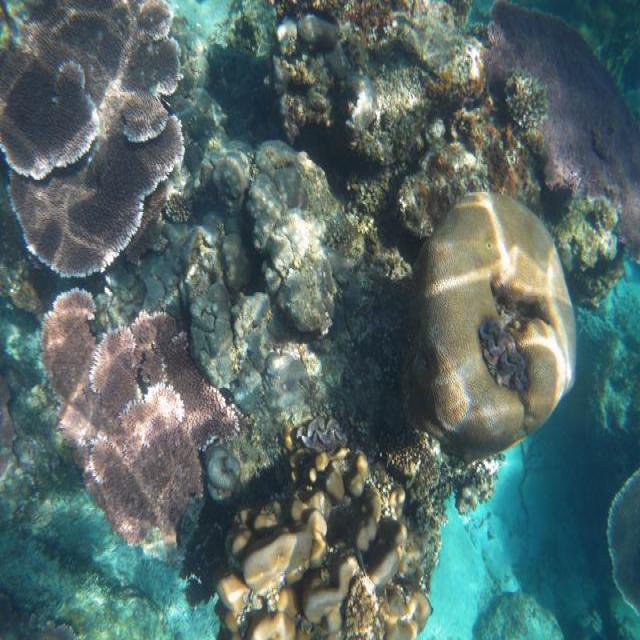reefs: (37, 287, 248, 559), (0, 2, 195, 277), (211, 416, 430, 639), (399, 192, 577, 464), (486, 2, 637, 264)
